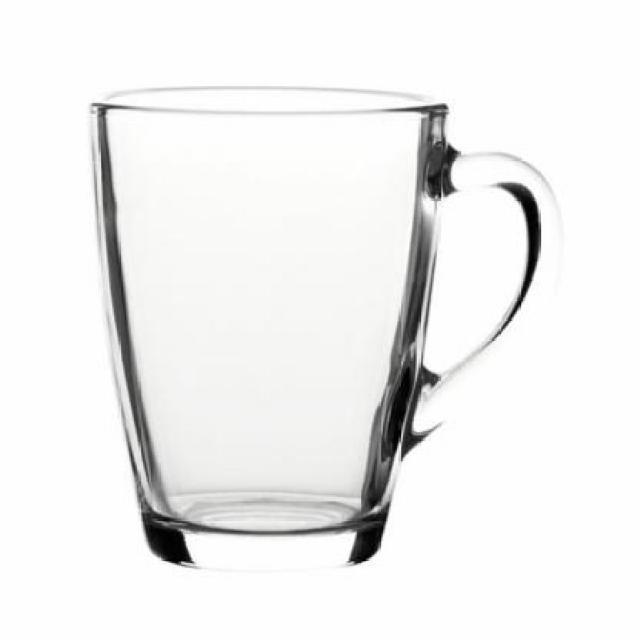taza: (76, 69, 572, 578)
